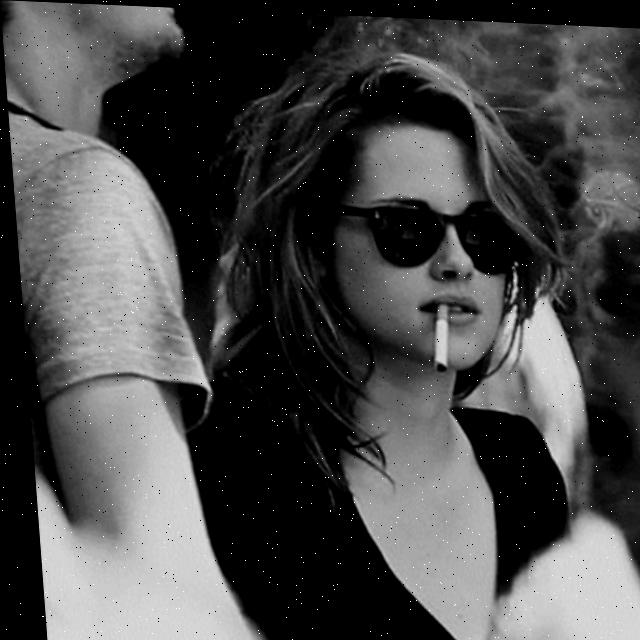cigarette: (423, 298, 448, 373)
